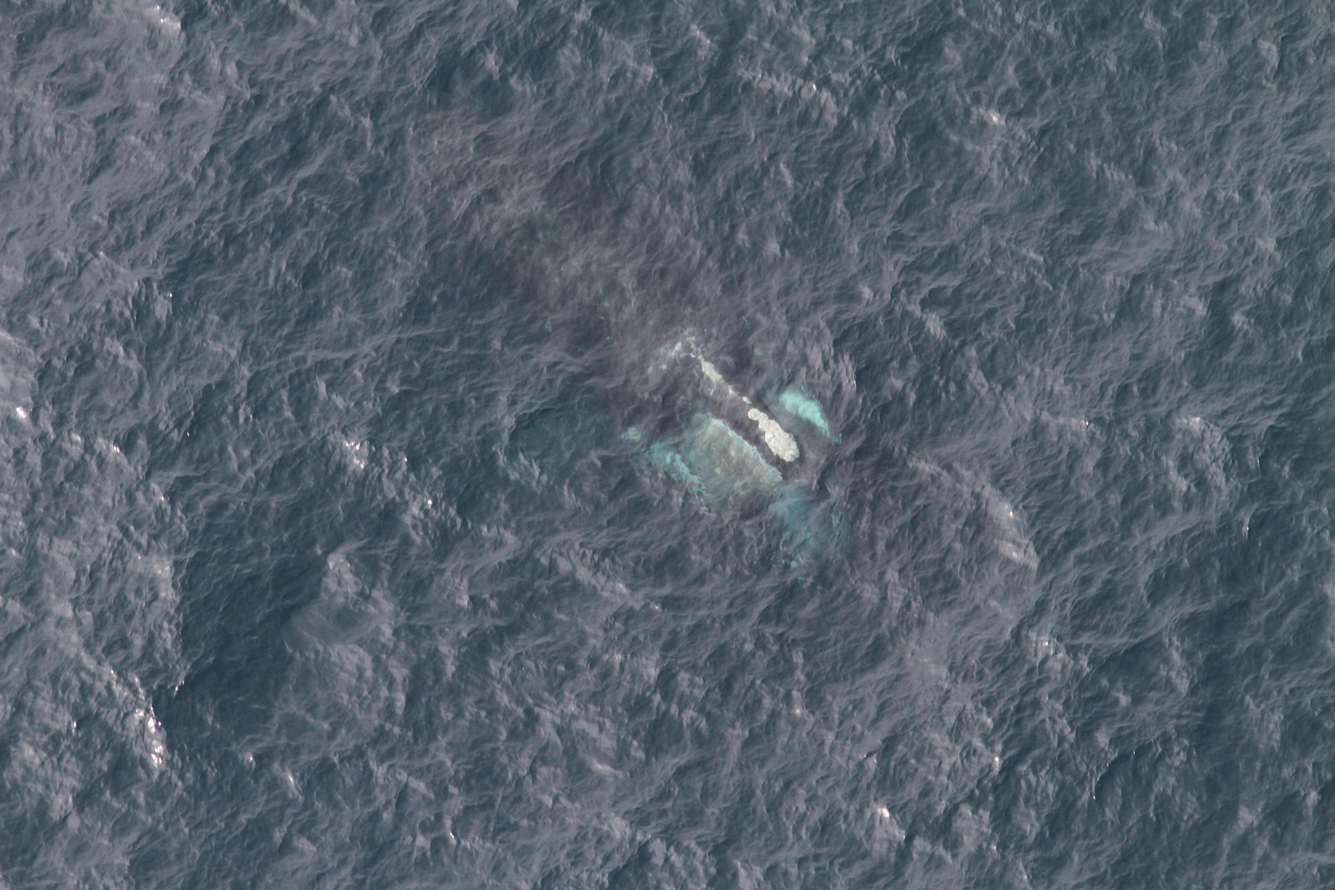whale: (596, 285, 868, 590)
